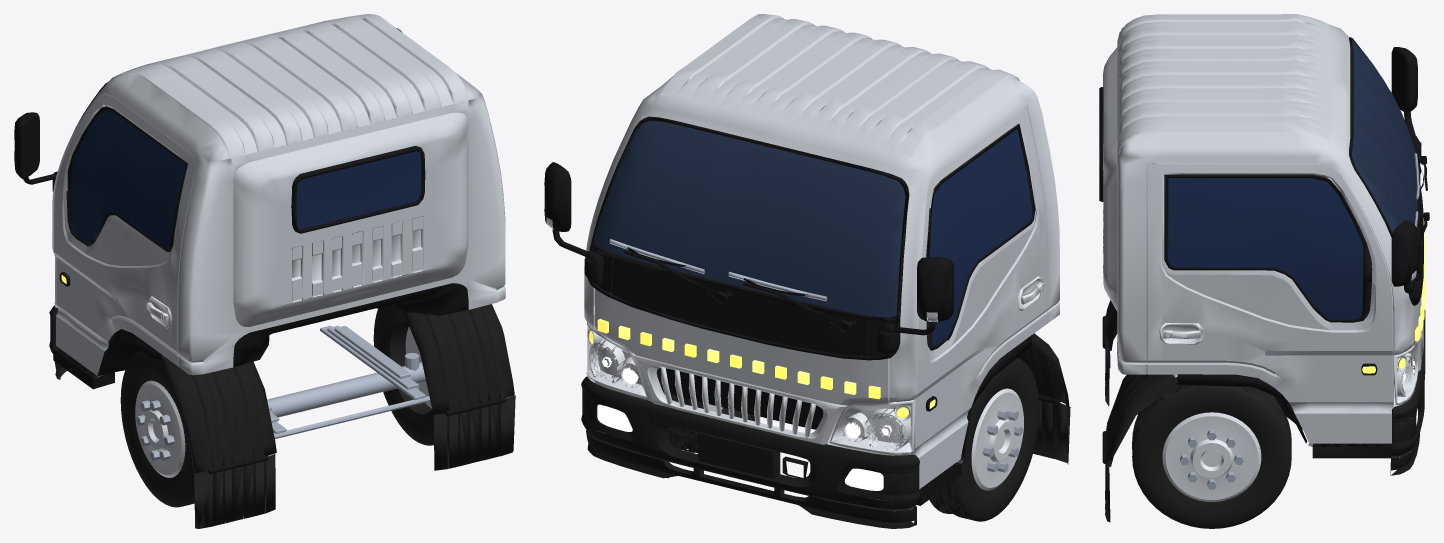
Rendered from cab_jac.glb.
The picture shows the model from 3 angles, left to right: view 1: azimuth 30°, elevation 25°; view 2: azimuth 150°, elevation 25°; view 3: azimuth 270°, elevation 25°; orthographic projection. The views are drawn at different scales.
Parts seen in each view (by area): view 1: truck_paint_white_panel, truck_plastic_trim, truck_glass, truck_plastic_black, truck_rubber, wheel_f_L, truck_steel, wheel_f_R, truck_chrome; view 2: truck_paint_white_panel, truck_glass_wind, truck_plastic_black, truck_plastic_trim, truck_chrome, truck_glass, wheel_f_L, truck_lamp_white, truck_rubber, truck_lamp_amber, truck_steel, truck_lamp_yellow (+1 smaller); view 3: truck_paint_white_panel, truck_glass, wheel_f_R, truck_plastic_black, truck_glass_wind, truck_plastic_trim, truck_chrome, truck_rubber, truck_lamp_amber.
Part boxes in pixels (x1,y1,x2,y2): truck_paint_white_panel: [52, 14, 505, 375]; truck_plastic_trim: [49, 304, 514, 472]; truck_glass: [67, 110, 421, 248]; truck_plastic_black: [14, 28, 506, 474]; truck_rubber: [194, 395, 515, 528]; wheel_f_L: [120, 351, 207, 507]; truck_steel: [267, 325, 430, 438]; wheel_f_R: [373, 304, 444, 445]; truck_chrome: [54, 255, 359, 328]; truck_paint_white_panel: [584, 14, 1059, 489]; truck_glass_wind: [595, 120, 905, 317]; truck_plastic_black: [544, 116, 1060, 505]; truck_plastic_trim: [581, 333, 1069, 528]; truck_chrome: [546, 217, 1043, 455]; truck_glass: [927, 129, 1032, 346]; wheel_f_L: [929, 358, 1039, 521]; truck_lamp_white: [597, 357, 891, 490]; truck_rubber: [1033, 400, 1070, 464]; truck_lamp_amber: [589, 319, 935, 418]; truck_steel: [609, 239, 845, 405]; truck_lamp_yellow: [618, 325, 856, 394]; truck_paint_white_panel: [1103, 14, 1421, 443]; truck_glass: [1168, 178, 1371, 319]; wheel_f_R: [1132, 377, 1291, 528]; truck_plastic_black: [1099, 37, 1429, 463]; truck_glass_wind: [1352, 40, 1417, 233]; truck_plastic_trim: [1105, 300, 1425, 475]; truck_chrome: [1159, 270, 1423, 406]; truck_rubber: [1105, 346, 1110, 522]; truck_lamp_amber: [1362, 222, 1425, 373].
Size of the model in its own units: 3.05 by 2.97 by 2.28.
Materials: 14 (5 with a texture image).
